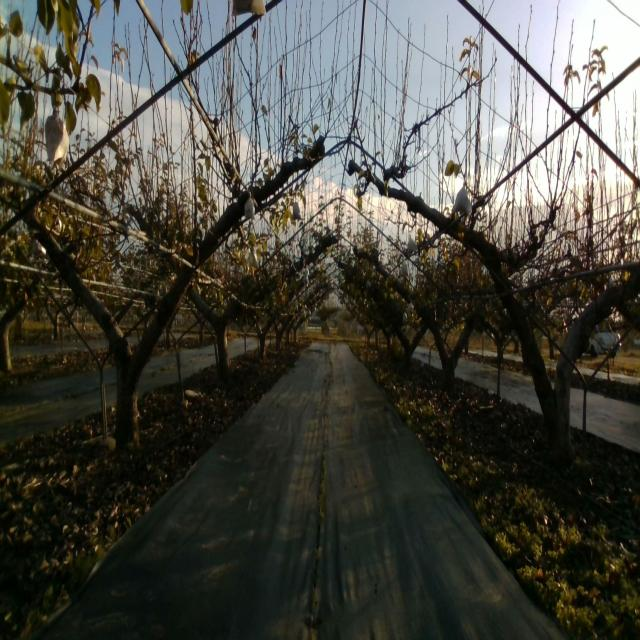pearbags: (44, 108, 70, 168), (451, 187, 473, 214), (244, 191, 255, 221), (406, 235, 418, 258), (292, 199, 302, 221)
